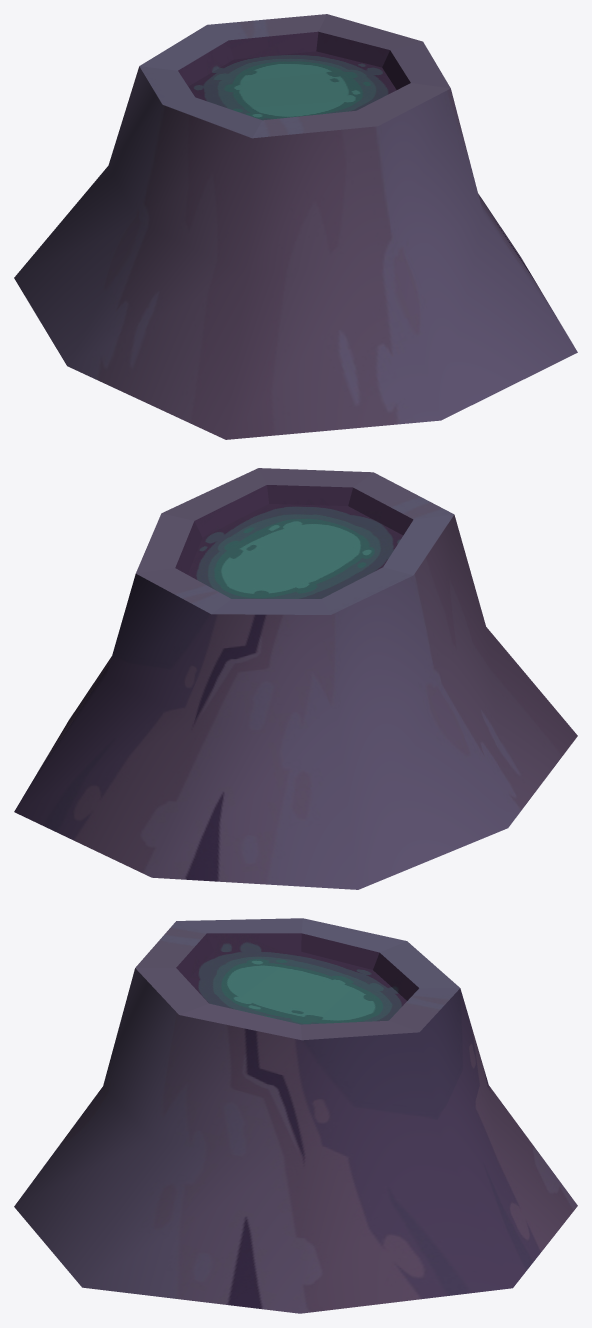
The model's file is Volcan_01.FBX.
The picture shows the model from 3 angles, top to bottom: view 1: azimuth 30°, elevation 25°; view 2: azimuth 150°, elevation 25°; view 3: azimuth 270°, elevation 25°; orthographic projection. The views are drawn at different scales.
Parts seen in each view (by area): view 1: Volcan_01; view 2: Volcan_01; view 3: Volcan_01.
Part boxes in pixels (bbox=[...]): Volcan_01: bbox=[14, 14, 577, 439]; Volcan_01: bbox=[14, 468, 577, 889]; Volcan_01: bbox=[14, 918, 577, 1313].
Bounding box in the file's own units: 63.35 × 33.2 × 71.06.
